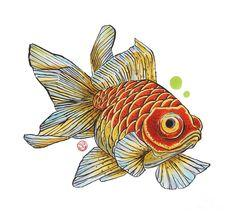goldfish: (25, 24, 215, 196)
